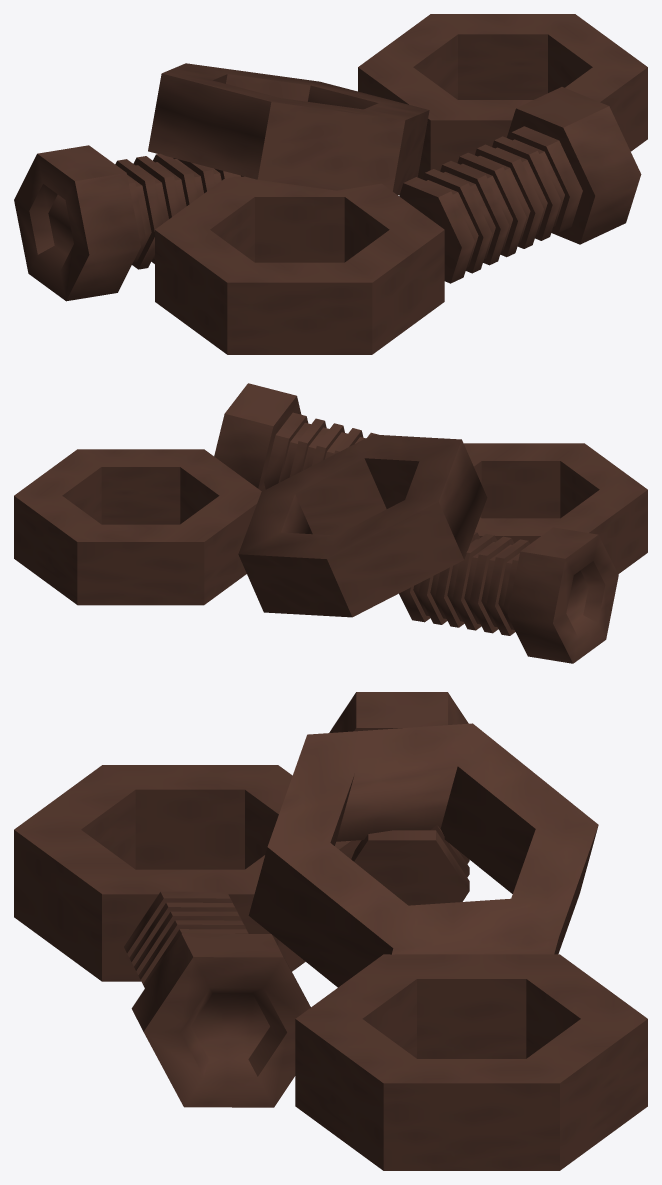
The model's file is BoltsAndNuts.fbx.
The picture shows the model from 3 angles, top to bottom: view 1: azimuth 30°, elevation 25°; view 2: azimuth 150°, elevation 25°; view 3: azimuth 270°, elevation 25°; orthographic projection. The views are drawn at different scales.
Visible parts, largest first — view 1: Cylinder.023; view 2: Cylinder.023; view 3: Cylinder.023.
Part boxes in pixels (<box>): Cylinder.023: <box>14,14,647,354</box>; Cylinder.023: <box>14,383,647,663</box>; Cylinder.023: <box>14,692,647,1170</box>.
Size of the model in its own units: 52.51 by 14.65 by 39.98.
